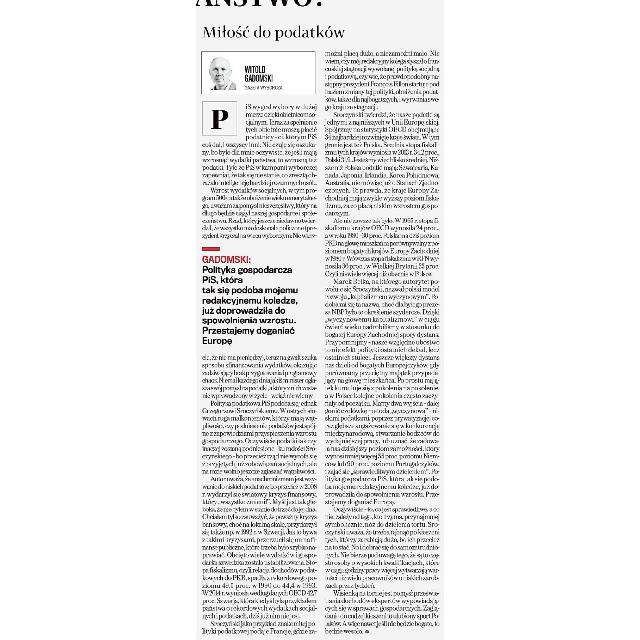author: (243, 63, 275, 83)
body: (323, 49, 442, 636), (198, 353, 320, 637), (198, 96, 320, 242)
lead: (199, 245, 305, 348)
title: (198, 16, 354, 46)
